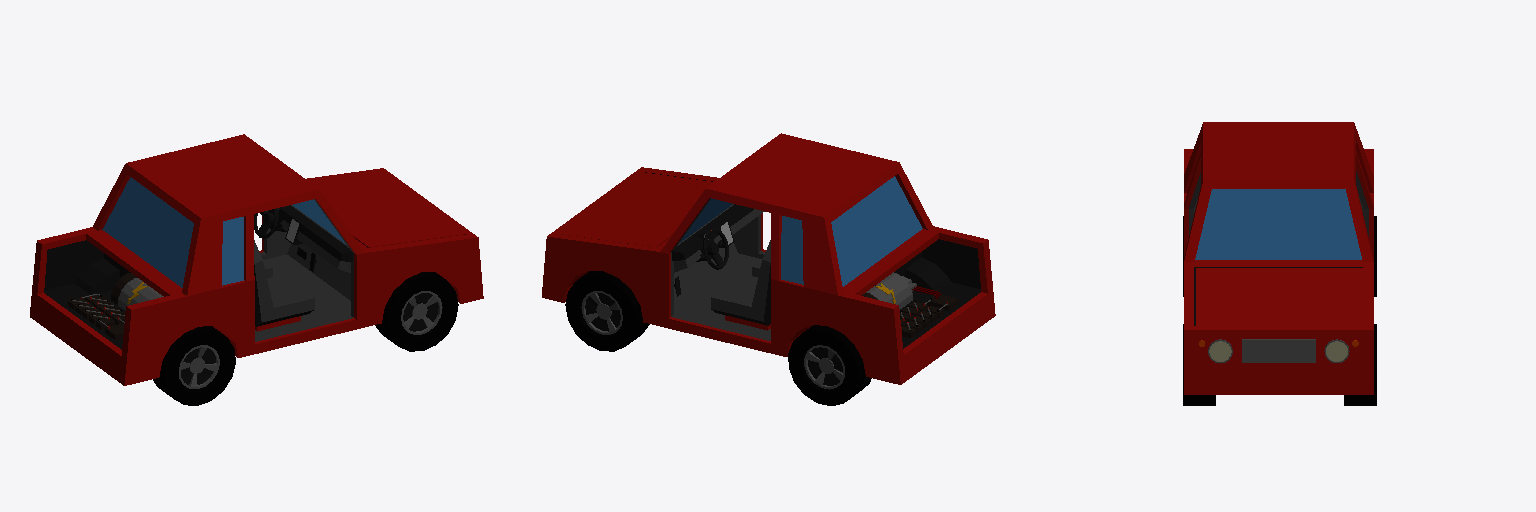
Rendered from car2.obj.
3 views of the same model, side by side, from view 1: azimuth 30°, elevation 25°; view 2: azimuth 150°, elevation 25°; view 3: azimuth 270°, elevation 25° (orthographic).
Visible parts, largest first — view 1: car-normal-red_Cube.623; view 2: car-normal-red_Cube.623; view 3: car-normal-red_Cube.623.
Boxes of the visible parts, x1=… form: car-normal-red_Cube.623: x1=30, y1=134, x2=483, y2=405; car-normal-red_Cube.623: x1=542, y1=133, x2=995, y2=405; car-normal-red_Cube.623: x1=1183, y1=122, x2=1376, y2=405.
Bounding box in the file's own units: 1.82 × 0.8549 × 0.8525.